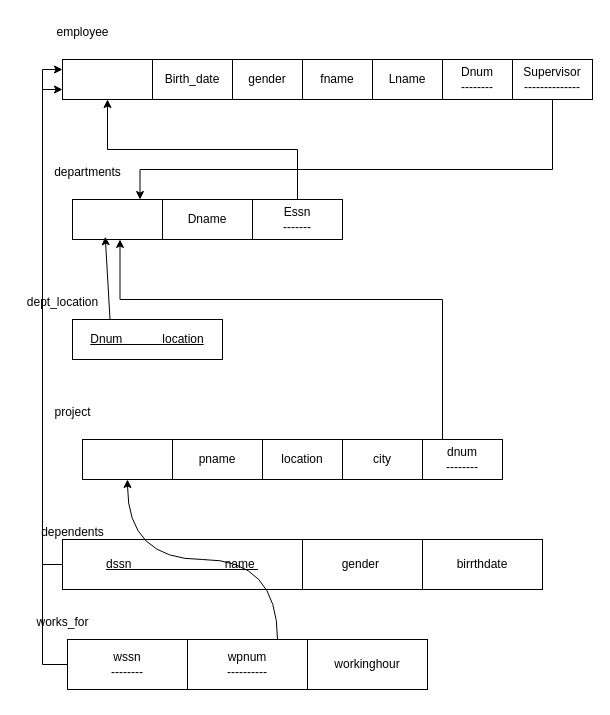
This 610x715 diagram has some shape labels left out. The shapes that lost their labels are listed below. From the top down, each one's box as (x1, y1, x2, y2) in pixels, then its label:
(62, 58, 152, 100): SSN
(72, 198, 162, 240): Dnum
(82, 438, 172, 480): pnumber
